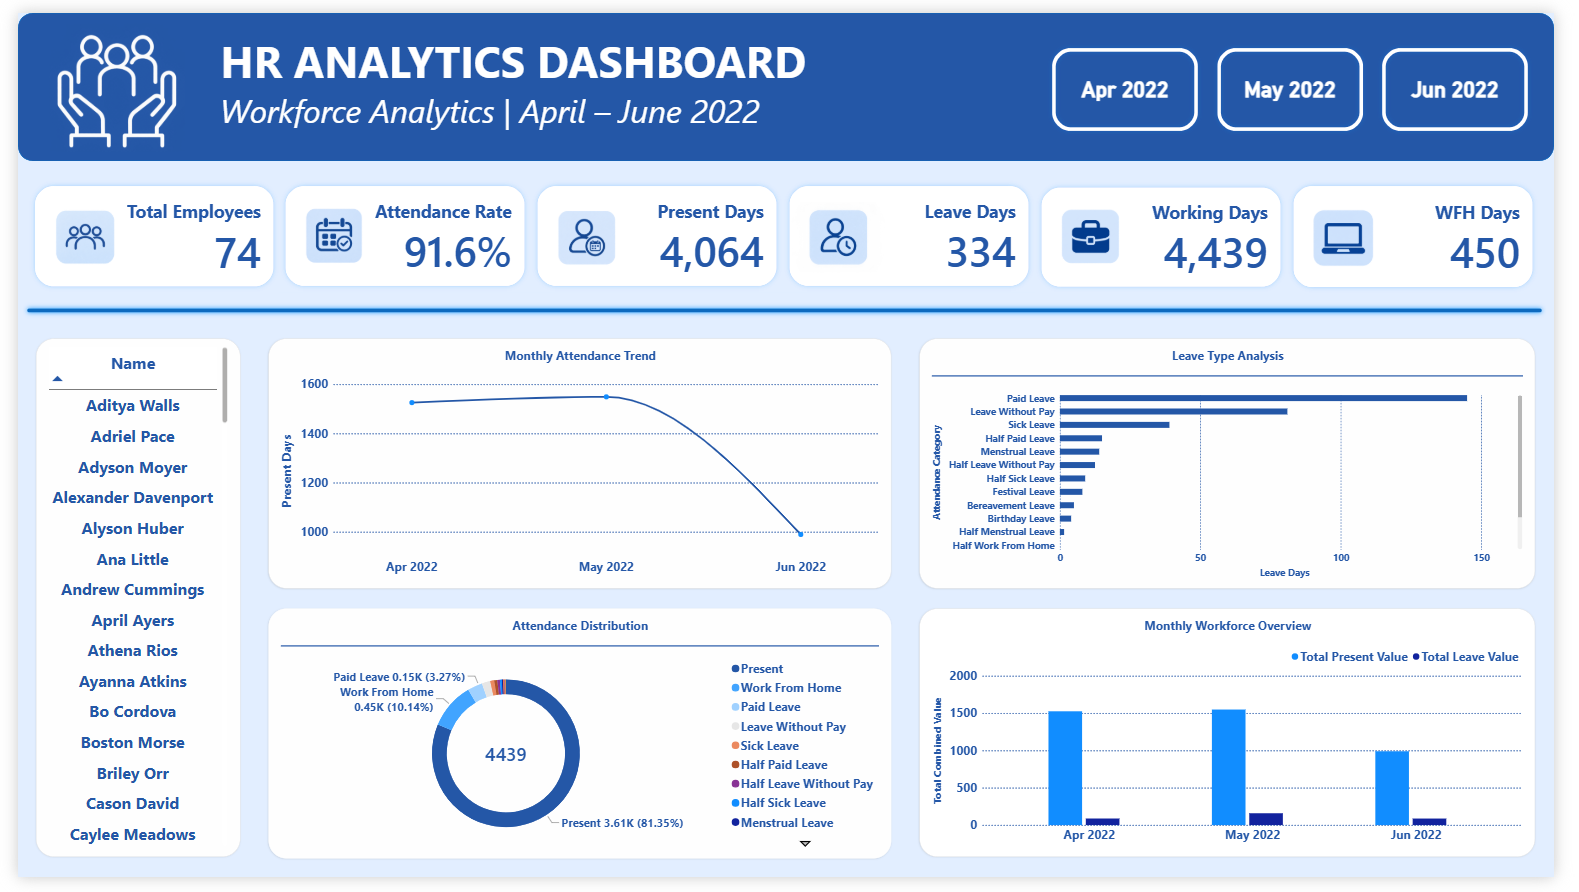

The dashboard page shown, as its layout file describes it:
{"tool":"powerbi","page":{"name":"Page 1","canvas":[2560,1440],"ordinal":0},"visuals":[{"type":"shape","box":[0,0,2560,246.7],"z":0},{"type":"textbox","box":[0,0,1395.3,279.7],"z":1000},{"type":"cardVisual","fields":{"Data":["Measure Table.Total Employees"]},"box":[16.4,278.2,420,189.1],"z":2000},{"type":"cardVisual","fields":{"Data":["Measure Table.WFH Days"]},"box":[2114.3,277.1,420,190],"z":3000},{"type":"cardVisual","fields":{"Data":["Measure Table.Total Leave Days"]},"box":[1275.7,278.6,420,188.6],"z":4000},{"type":"cardVisual","fields":{"Data":["Measure Table.Working Days"]},"box":[1694.3,280,420,187.1],"z":5000},{"type":"cardVisual","title":"ff","fields":{"Data":["Measure Table.Attendance %"]},"box":[435.7,278.6,420,188.6],"z":6000},{"type":"shape","box":[7.1,354.3,2540,281.4],"z":7000},{"type":"cardVisual","fields":{"Data":["Measure Table.Present Days only"]},"box":[855.7,278.6,420,188.6],"z":8000},{"type":"image","box":[30,16.4,270.9,213.6],"z":9000},{"type":"image","box":[7,313,209.1,121.8],"z":10000},{"type":"image","box":[443,311,168.3,122.1],"z":11000},{"type":"image","box":[826,317,247.9,113.3],"z":12000},{"type":"image","box":[1204.3,315,325.4,117.5],"z":13000},{"type":"image","box":[1652.1,315,270.7,114.3],"z":14000},{"type":"image","box":[2060,314.3,297.9,118.6],"z":15000},{"type":"advancedSlicerVisual","fields":{"Values":["Calendar.Month Year"]},"box":[1712,48,816,160],"z":16000},{"type":"lineChart","title":"Monthly Attendance Trend","fields":{"Category":["Calendar.Month Year"],"Y":["Measure Table.Present Days 11"]},"box":[416.7,542.9,1038.1,416.7],"z":17000},{"type":"donutChart","title":"Attendance Distribution","fields":{"Category":["FinalData.Attendance Category"],"Y":["CountNonNull(FinalData.Value)"]},"box":[416.7,992.9,1038.1,416.7],"z":18000},{"type":"clusteredBarChart","title":"Leave Type Analysis","fields":{"Category":["FinalData.Attendance Category"],"Y":["Measure Table.Leave Days"]},"box":[1502.4,542.9,1026.2,416.7],"z":19000},{"type":"clusteredColumnChart","title":"Monthly Workforce Overview","fields":{"Category":["Calendar.Month Year"],"Y":["Measure Table.Total Present Value","Measure Table.Total Leave Value"]},"box":[1502.4,992.9,1026.2,414.3],"z":20000},{"type":"tableEx","fields":{"Values":["FinalData.Name"]},"box":[31,542.9,340.5,864.3],"z":21000}]}

Visuals, with their boxes in screenshot pixels (x1, y1, x2, y2), scaled from the page's 2560x1440 canvas onto the 1579x892 screenshot:
shape: (0,0,1578,153)
textbox: (0,0,861,173)
cardVisual - Measure Table.Total Employees: (10,172,269,289)
cardVisual - Measure Table.WFH Days: (1304,172,1563,289)
cardVisual - Measure Table.Total Leave Days: (787,173,1046,289)
cardVisual - Measure Table.Working Days: (1045,173,1304,289)
"ff" cardVisual: (269,173,528,289)
shape: (4,219,1571,394)
cardVisual - Measure Table.Present Days only: (528,173,787,289)
image: (19,10,186,142)
image: (4,194,133,269)
image: (273,193,377,268)
image: (509,196,662,267)
image: (743,195,944,268)
image: (1019,195,1186,266)
image: (1271,195,1454,268)
advancedSlicerVisual - Calendar.Month Year: (1056,30,1559,129)
"Monthly Attendance Trend" lineChart: (257,336,897,594)
"Attendance Distribution" donutChart: (257,615,897,873)
"Leave Type Analysis" clusteredBarChart: (927,336,1560,594)
"Monthly Workforce Overview" clusteredColumnChart: (927,615,1560,872)
tableEx - FinalData.Name: (19,336,229,872)
